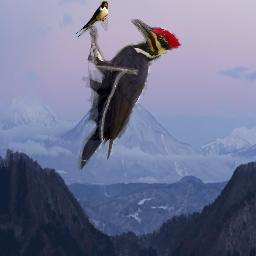Swallow: (73, 1, 108, 38)
Woodpecker: (78, 19, 182, 170)
